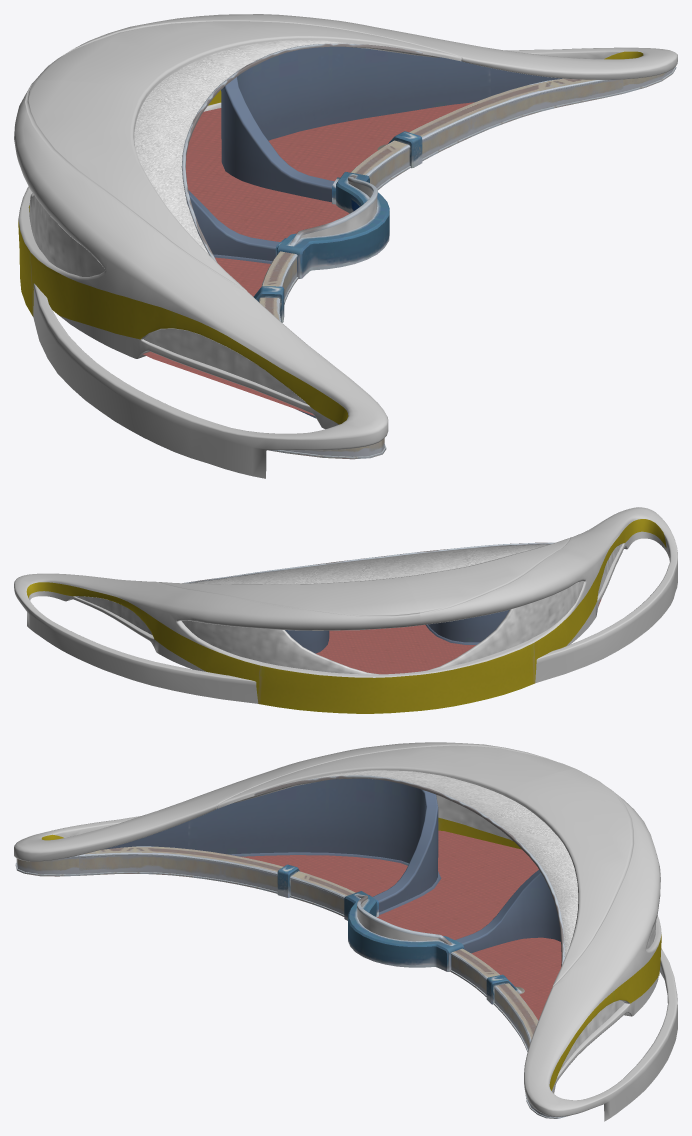
Rendered from pref_sm_beach_winter_techpagoda01_mirror_lv3.fbx.
The picture shows the model from 3 angles, top to bottom: view 1: azimuth 30°, elevation 25°; view 2: azimuth 150°, elevation 25°; view 3: azimuth 270°, elevation 25°; orthographic projection. The views are drawn at different scales.
Visible parts, largest first — view 1: sm_beach_techpagoda01_mirror_b_lv3, sm_beach_techpagoda01_mirror_d_lv3, sm_beach_techpagoda01_mirror_e_lv3, sm_beach_techpagoda01_mirror_c_lv3, sm_beach_techpagoda01_mirror_a_lv3; view 2: sm_beach_techpagoda01_mirror_c_lv3, sm_beach_techpagoda01_mirror_b_lv3, sm_beach_techpagoda01_mirror_d_lv3, sm_beach_techpagoda01_mirror_a_lv3, sm_beach_techpagoda01_mirror_e_lv3; view 3: sm_beach_techpagoda01_mirror_d_lv3, sm_beach_techpagoda01_mirror_c_lv3, sm_beach_techpagoda01_mirror_b_lv3, sm_beach_techpagoda01_mirror_e_lv3, sm_beach_techpagoda01_mirror_a_lv3.
Boxes of the visible parts, x1=… form: sm_beach_techpagoda01_mirror_b_lv3: x1=14, y1=80, x2=388, y2=478; sm_beach_techpagoda01_mirror_d_lv3: x1=18, y1=89, x2=474, y2=459; sm_beach_techpagoda01_mirror_e_lv3: x1=208, y1=43, x2=676, y2=202; sm_beach_techpagoda01_mirror_c_lv3: x1=32, y1=14, x2=677, y2=111; sm_beach_techpagoda01_mirror_a_lv3: x1=29, y1=40, x2=439, y2=404; sm_beach_techpagoda01_mirror_c_lv3: x1=14, y1=573, x2=420, y2=703; sm_beach_techpagoda01_mirror_b_lv3: x1=404, y1=507, x2=677, y2=683; sm_beach_techpagoda01_mirror_d_lv3: x1=316, y1=519, x2=666, y2=711; sm_beach_techpagoda01_mirror_a_lv3: x1=75, y1=544, x2=622, y2=674; sm_beach_techpagoda01_mirror_e_lv3: x1=26, y1=556, x2=405, y2=713; sm_beach_techpagoda01_mirror_d_lv3: x1=15, y1=775, x2=561, y2=1020; sm_beach_techpagoda01_mirror_c_lv3: x1=505, y1=768, x2=677, y2=1121; sm_beach_techpagoda01_mirror_b_lv3: x1=14, y1=742, x2=575, y2=861; sm_beach_techpagoda01_mirror_e_lv3: x1=450, y1=809, x2=661, y2=1118; sm_beach_techpagoda01_mirror_a_lv3: x1=233, y1=770, x2=656, y2=1071.
Size of the model in its own units: 48.73 by 9.82 by 45.2.
